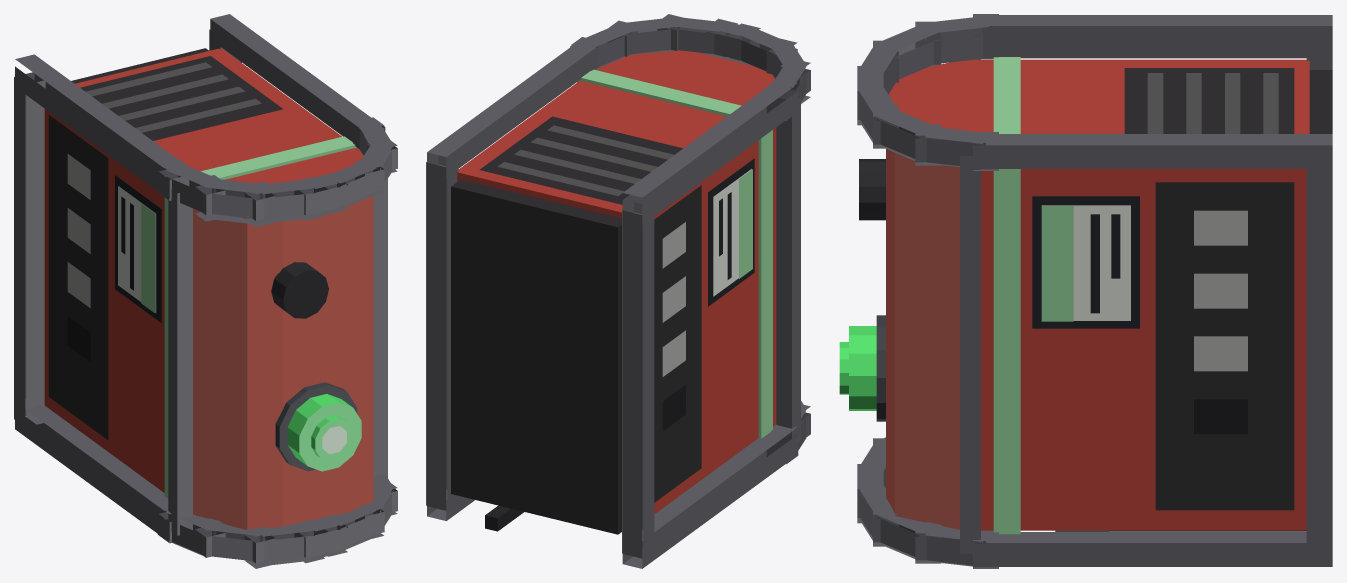
Rendered from backup_ground_lectromax_on_E.obj.
The picture shows the model from 3 angles, left to right: view 1: azimuth 30°, elevation 25°; view 2: azimuth 150°, elevation 25°; view 3: azimuth 270°, elevation 25°; orthographic projection. The views are drawn at different scales.
Visible parts, largest first — view 1: backup_ground_lectromax_on_E; view 2: backup_ground_lectromax_on_E; view 3: backup_ground_lectromax_on_E.
Boxes of the visible parts, bbox=[...] form: backup_ground_lectromax_on_E: bbox=[14, 14, 397, 568]; backup_ground_lectromax_on_E: bbox=[426, 14, 810, 568]; backup_ground_lectromax_on_E: bbox=[839, 14, 1332, 568].
Size of the model in its own units: 0.377 by 0.6265 by 0.6405.
Materials: 1 (1 with a texture image).
